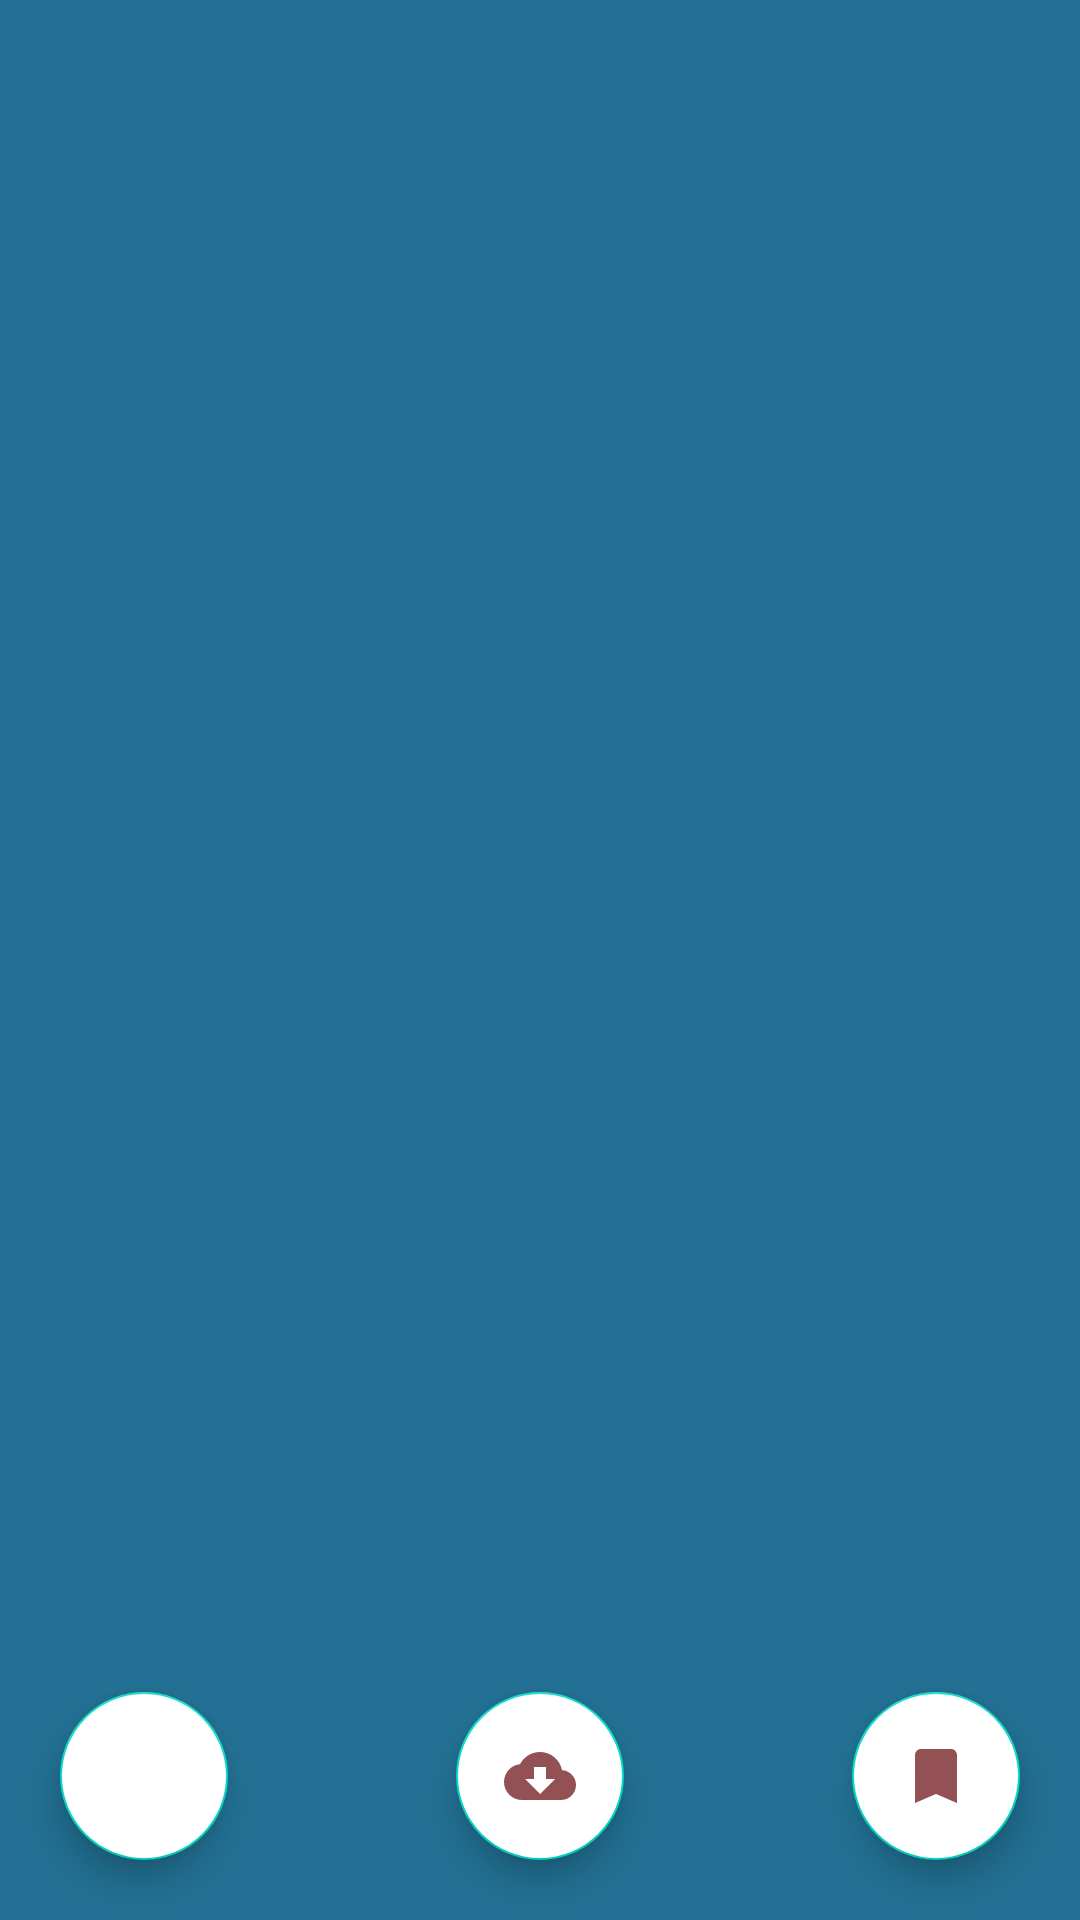

Where to tap for icons on this 1080px x 1920px app screen, as (x=x, y=y):
bookmark: (x=936, y=1776)
cloud download: (x=540, y=1776)
